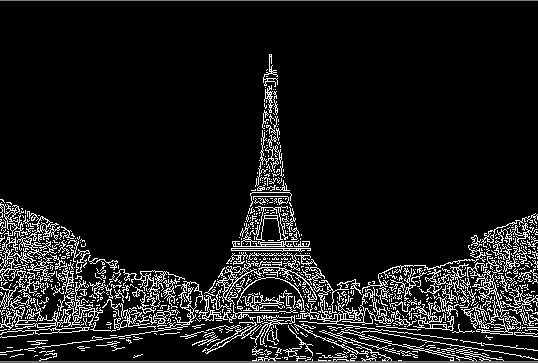eiffel tower: (196, 51, 339, 309)
